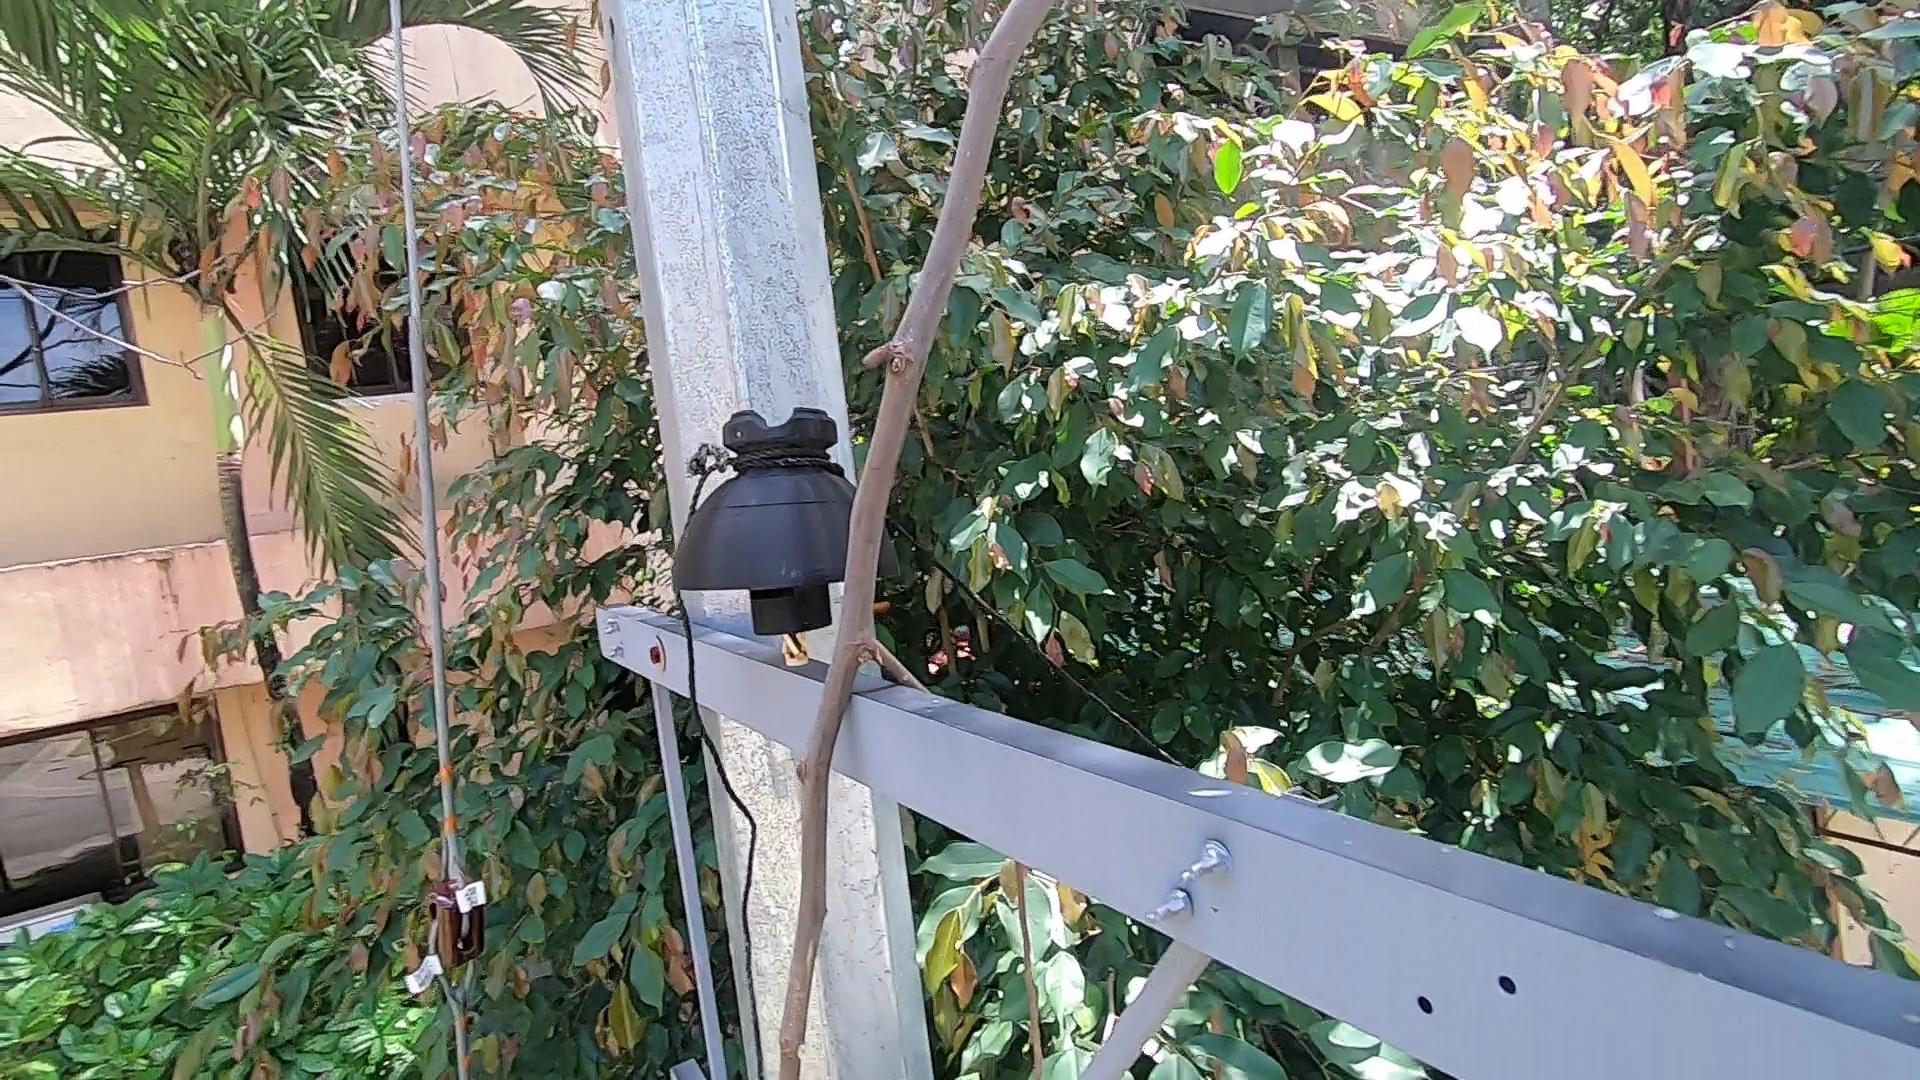tree branch: (746, 1, 1050, 1080)
